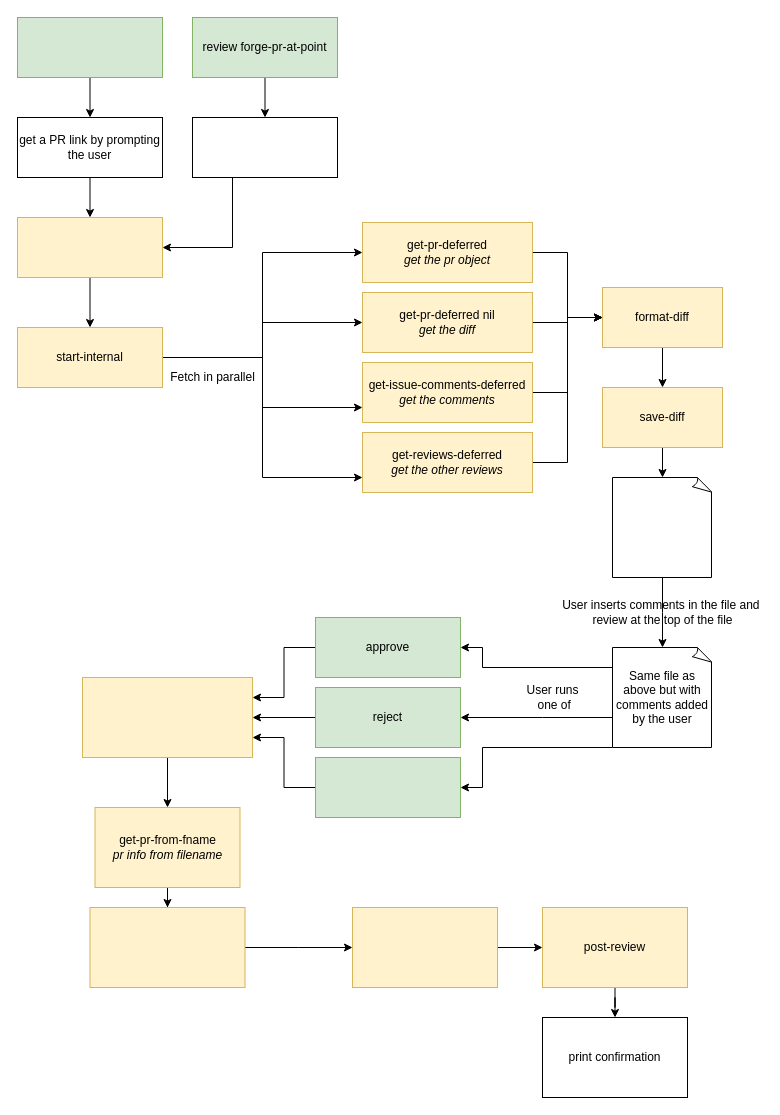
This 780x1115 diagram has some shape labels left out. Each missing label, with the box of its shape:
comment: (314, 756, 460, 818)
File showed to the user with the diff and the past reviews: (612, 476, 712, 578)
get PR information from forge: (192, 116, 338, 178)
get-pr-object essentially to get the head sha from github: (352, 906, 498, 988)
parsed-review-from-current-buffer Get review by parsing the diff and comments: (89, 906, 245, 988)
pr-from-url parse owner/repo/num: (16, 216, 162, 278)
review start: (16, 16, 162, 78)
submit-review: (82, 676, 252, 758)
